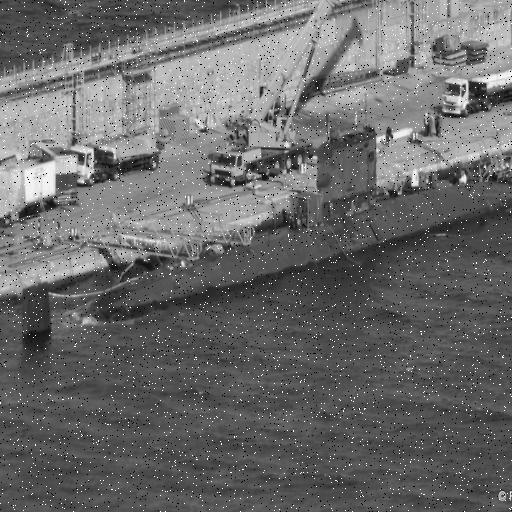submarine: (22, 125, 512, 340)
